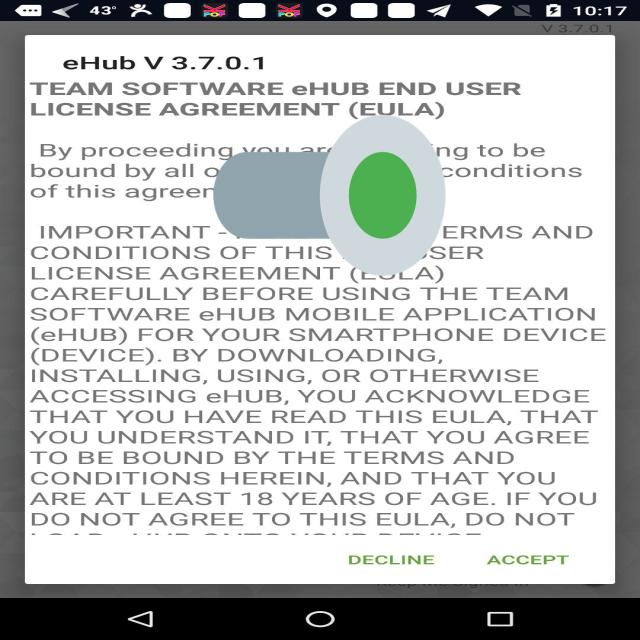social proof: (213, 47, 446, 344)
